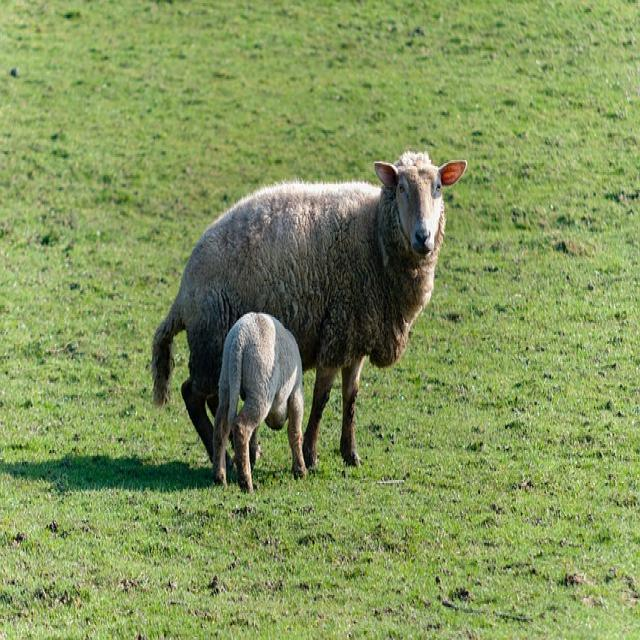goat: (154, 151, 465, 466), (212, 312, 306, 492)
